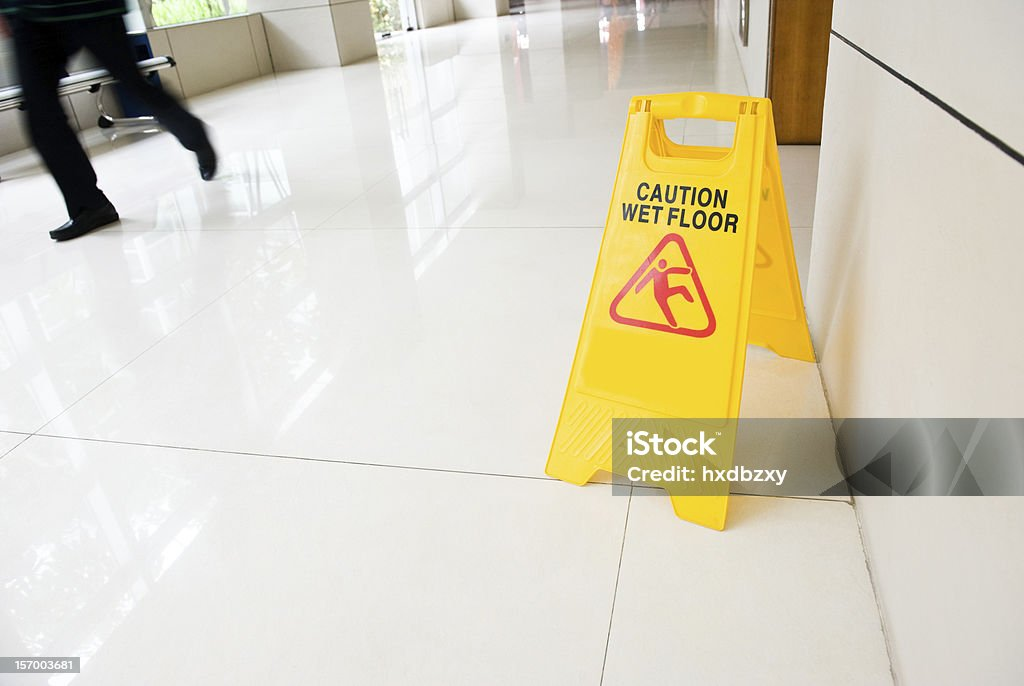wet caution sign: (541, 82, 890, 533)
